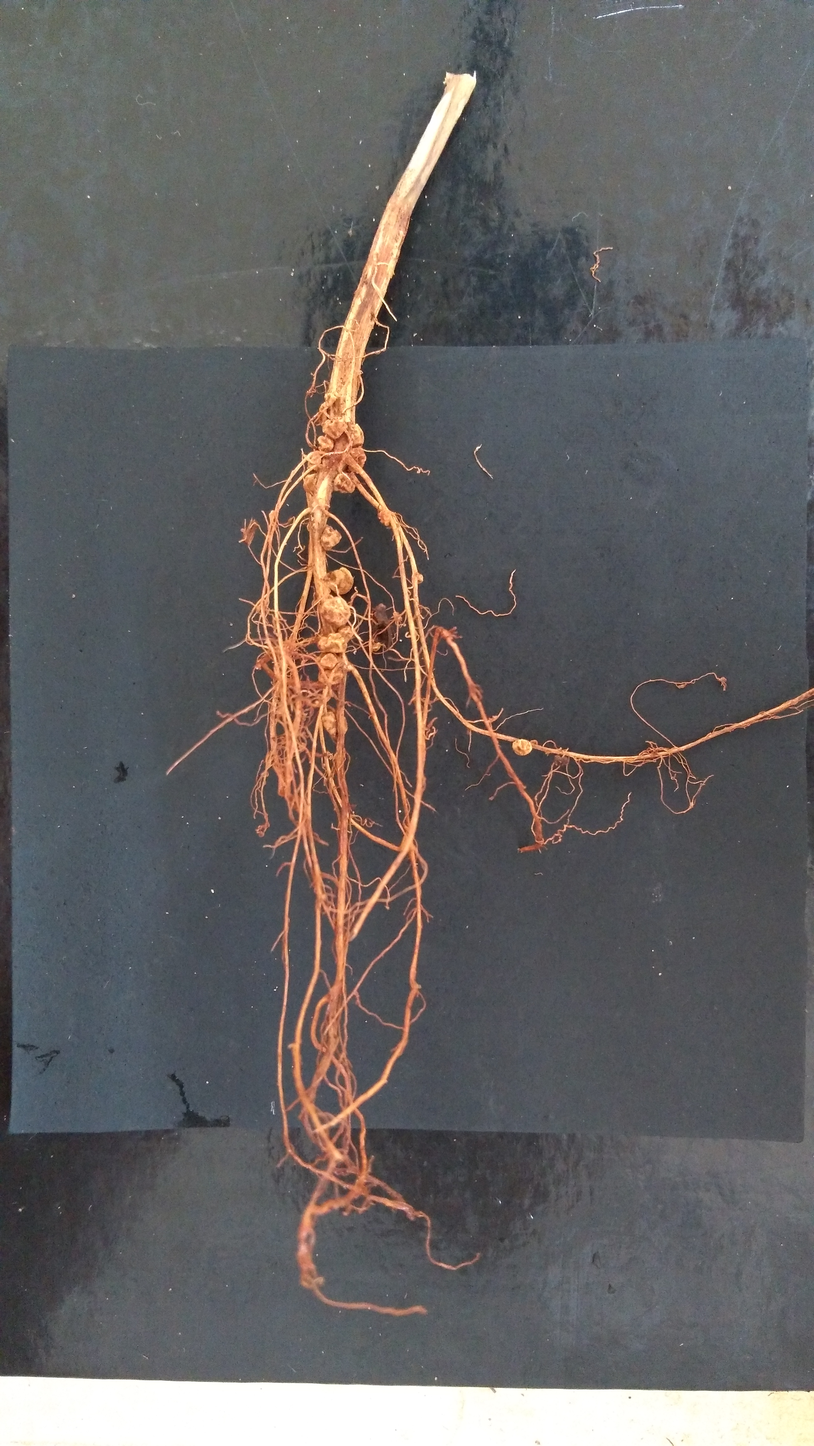nodule: (320, 596, 351, 628), (316, 651, 345, 685), (321, 566, 354, 595), (320, 710, 348, 742), (302, 454, 323, 495), (332, 468, 358, 494), (317, 632, 347, 653), (320, 524, 342, 551), (347, 446, 367, 475), (322, 418, 349, 439), (349, 423, 366, 448), (316, 435, 336, 455), (376, 508, 395, 527), (336, 625, 356, 643), (512, 739, 532, 756), (323, 392, 337, 407), (553, 753, 569, 766), (411, 572, 423, 584), (392, 611, 402, 622), (371, 642, 381, 653), (320, 401, 329, 412), (257, 825, 265, 837), (268, 511, 276, 521), (529, 739, 538, 747)
